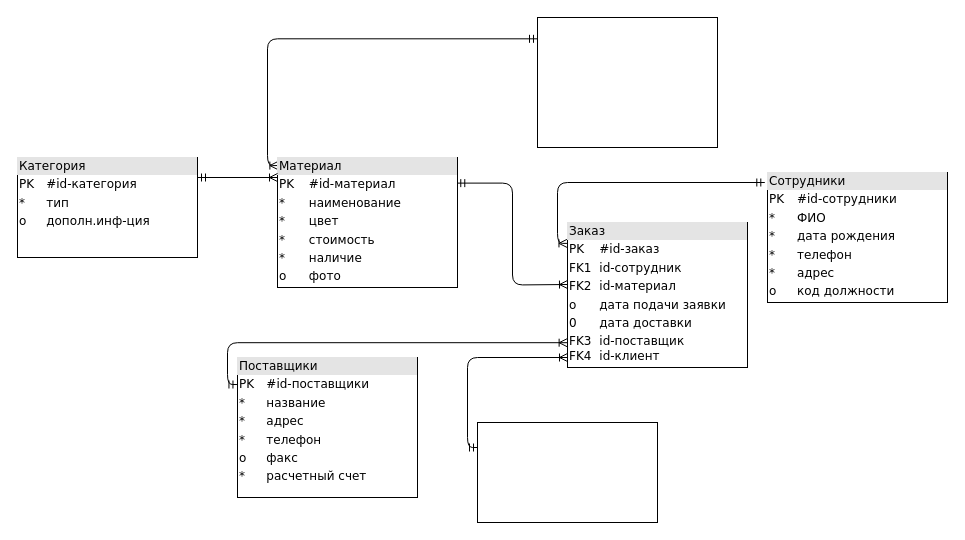
Some shapes in this 965 by 540 pixel diagram are drawn without their labels. The centre of each missing label's shape, as x and y in pixels:
"Клиент PK #id-клиент * ФИО * телефон * адрес" goes at point 567,472.
"Распил PK #id-распил * наименование * тип o вид * цвет * цена" goes at point 627,82.
